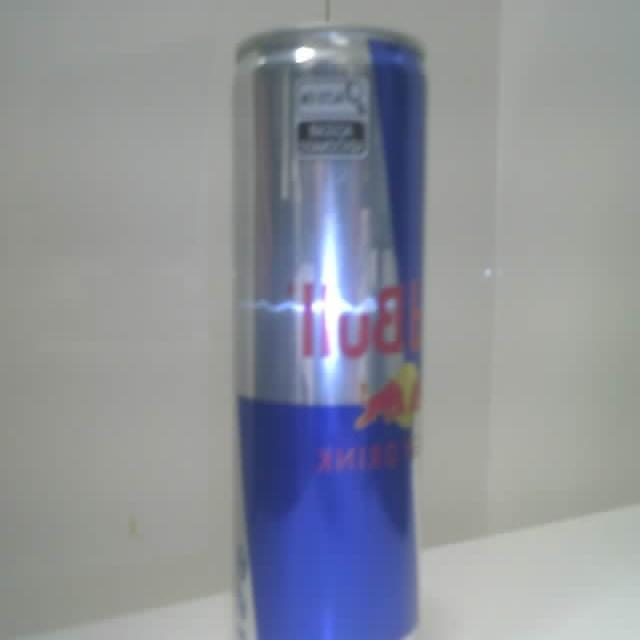redbull can: (234, 26, 424, 639)
